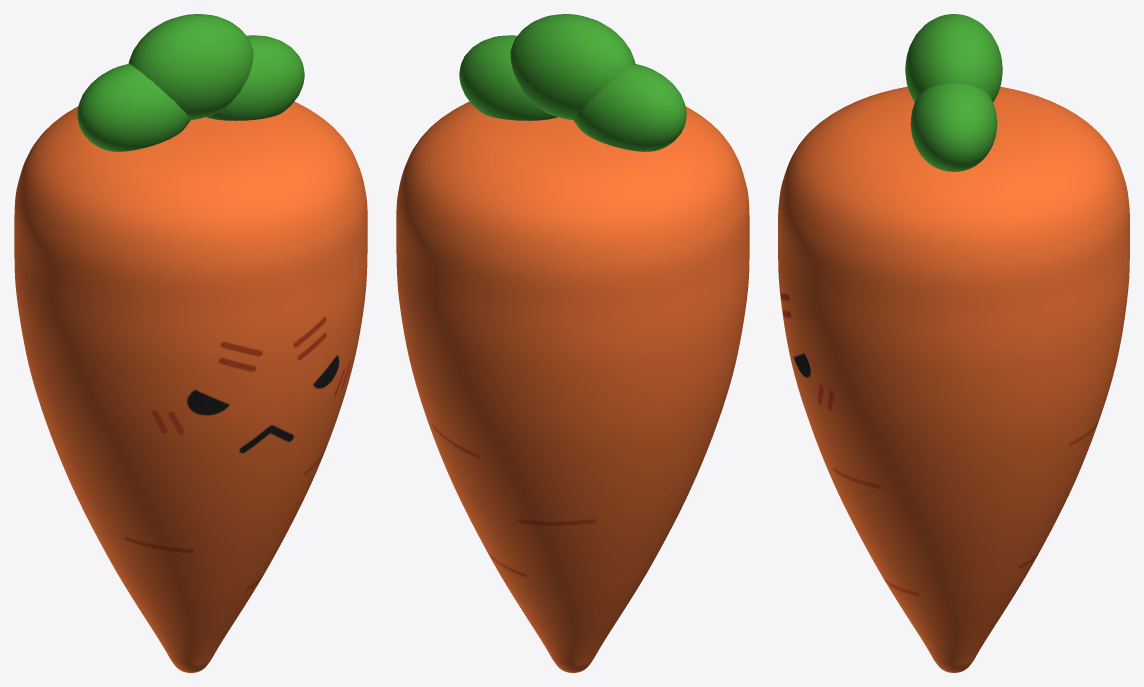
File: carrot.glb
3 views of the same model, side by side, from view 1: azimuth 30°, elevation 25°; view 2: azimuth 150°, elevation 25°; view 3: azimuth 270°, elevation 25° (orthographic).
Parts seen in each view (by area): view 1: Carrot; view 2: Carrot; view 3: Carrot.
Boxes of the visible parts, x1=… form: Carrot: x1=14, y1=14, x2=367, y2=672; Carrot: x1=396, y1=14, x2=749, y2=672; Carrot: x1=778, y1=14, x2=1129, y2=672.
Bounding box in the file's own units: 0.7004 × 1.43 × 0.7004.
Materials: 2 (1 with a texture image).
